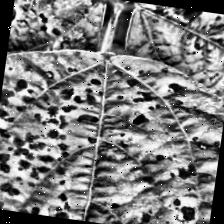ALS: (0, 37, 224, 224), (110, 0, 224, 124), (6, 0, 103, 71)
